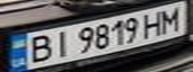1: (109, 18, 127, 46)
8: (90, 20, 112, 51)
9: (72, 24, 96, 54), (121, 15, 145, 44)
B: (21, 33, 57, 65)
H: (139, 9, 169, 39)
I: (48, 28, 72, 58)
M: (154, 6, 187, 34)
